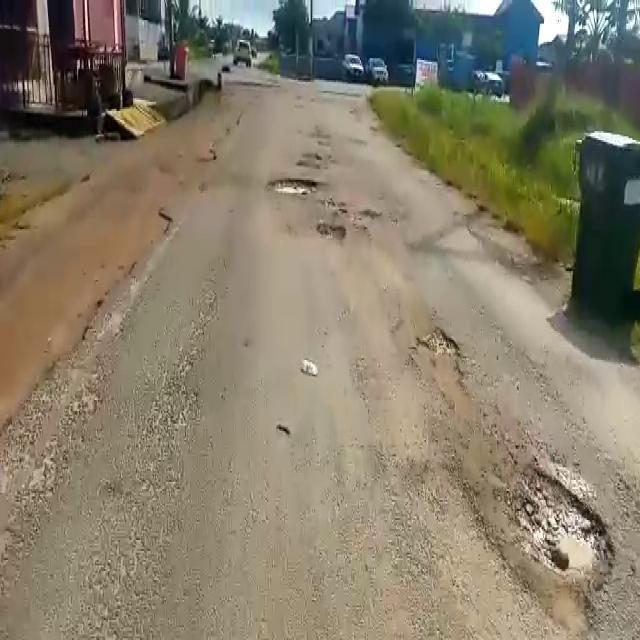pothole: (507, 452, 620, 613), (409, 327, 475, 417), (266, 175, 319, 195), (316, 222, 351, 242)
